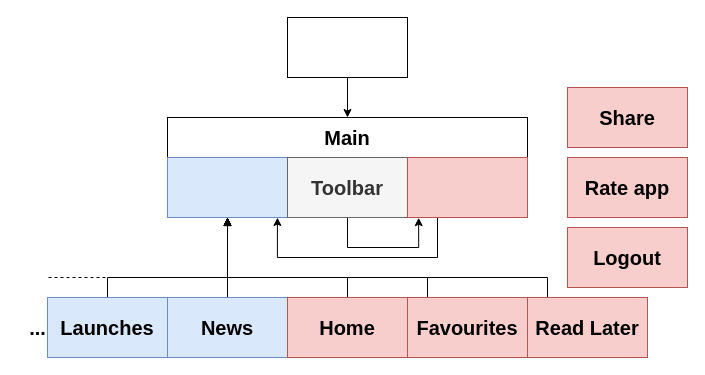
Some shapes in this 705 by 375 pixel diagram are drawn without their labels. The centre of each missing label's shape, as x and y in pixels:
"FrameLayout (Home)" goes at pixel 227 187.
"Login" goes at pixel 347 47.
"NavMenu" goes at pixel 467 187.
